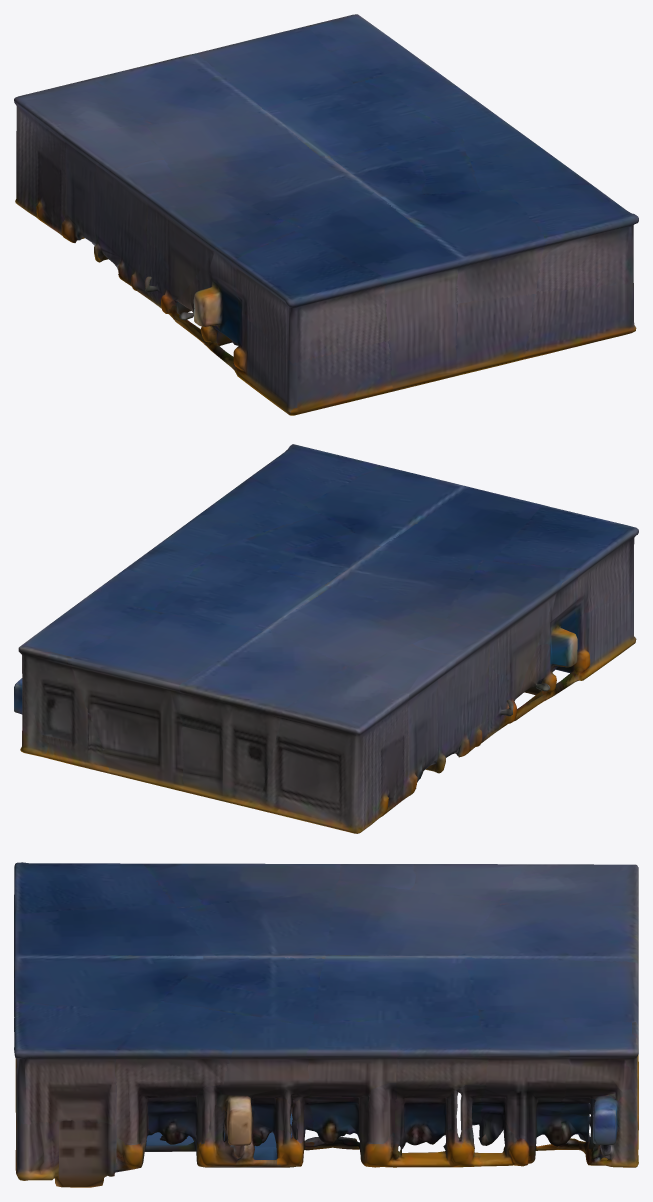
File: supply_depot_warehouse.glb
3 renders of one model, top to bottom at view 1: azimuth 30°, elevation 25°; view 2: azimuth 150°, elevation 25°; view 3: azimuth 270°, elevation 25°, orthographic. The views are drawn at different scales.
Parts seen in each view (by area): view 1: tripo_node_4c5b798f-a693-49d0-881b-09da9a519fbc; view 2: tripo_node_4c5b798f-a693-49d0-881b-09da9a519fbc; view 3: tripo_node_4c5b798f-a693-49d0-881b-09da9a519fbc.
Boxes of the visible parts, left/top/right/bottom form: tripo_node_4c5b798f-a693-49d0-881b-09da9a519fbc: left=14, top=14, right=638, bottom=415; tripo_node_4c5b798f-a693-49d0-881b-09da9a519fbc: left=14, top=444, right=638, bottom=833; tripo_node_4c5b798f-a693-49d0-881b-09da9a519fbc: left=14, top=862, right=638, bottom=1187.
Size of the model in its own units: 0.739 by 0.2381 by 0.9498.
1 material, 1 textured.
